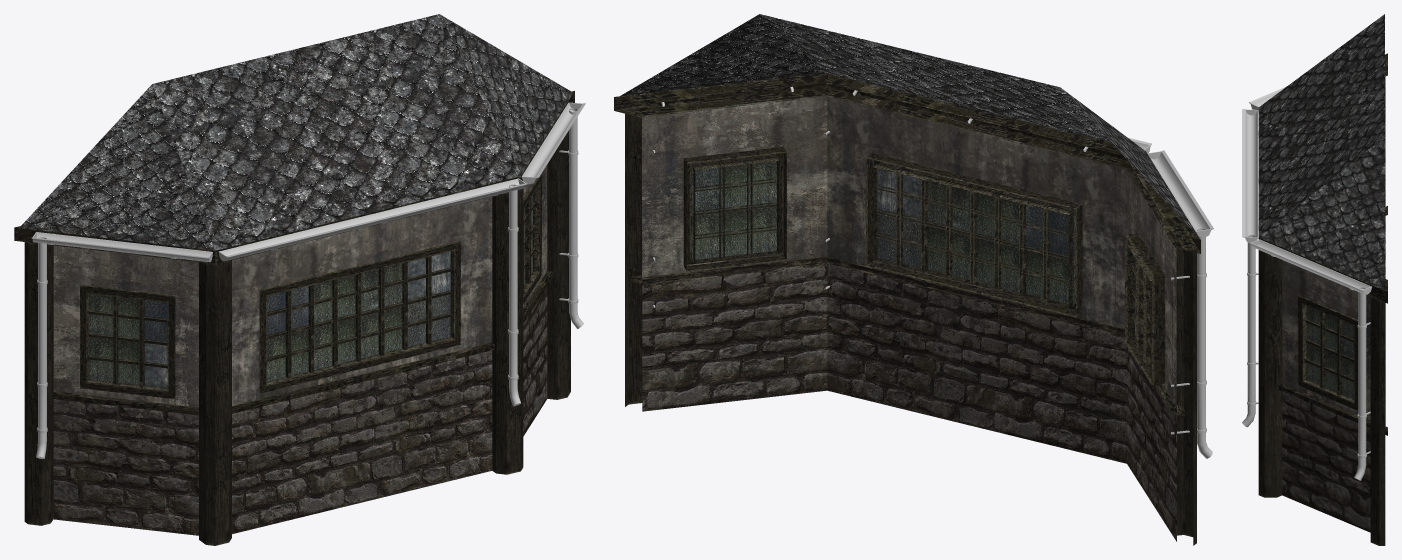
File: pubwall01.DAE
3 renders of one model, left to right at view 1: azimuth 30°, elevation 25°; view 2: azimuth 150°, elevation 25°; view 3: azimuth 270°, elevation 25°, orthographic. The views are drawn at different scales.
Parts seen in each view (by area): view 1: Object002, pPlane003, Object006, Object005, Object004, Object062, Cylinder003; view 2: Object006, pPlane003, Object005, Object002, Object004, Object062, Cylinder003; view 3: Object002, pPlane003, Object006, Object062, Object005, Object004, Cylinder003.
Part boxes in pixels (x1,y1,x2,y2): Object002: (19, 14, 572, 250); pPlane003: (14, 91, 574, 545); Object006: (53, 286, 547, 535); Object005: (53, 165, 547, 407); Object004: (89, 195, 532, 388); Object062: (31, 102, 585, 384); Cylinder003: (36, 150, 583, 458); Object006: (642, 257, 1176, 541); pPlane003: (614, 73, 1200, 545); Object005: (642, 95, 1176, 407); Object002: (620, 14, 1198, 236); Object004: (692, 157, 1135, 338); Object062: (635, 69, 1213, 382); Cylinder003: (653, 86, 1212, 458); Object002: (1258, 14, 1384, 290); pPlane003: (1258, 53, 1387, 545); Object006: (1282, 211, 1385, 532); Object062: (1242, 86, 1371, 416); Object005: (1276, 75, 1385, 426); Object004: (1307, 144, 1357, 399); Cylinder003: (1242, 131, 1370, 480).
Bounding box in the file's own units: 10.53 × 7.3 × 2.72.
